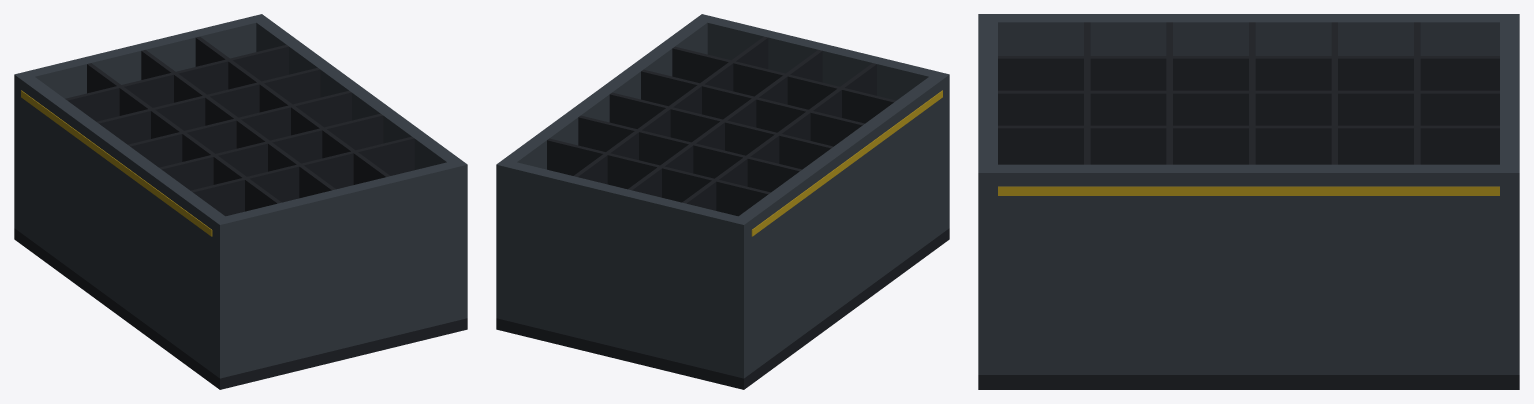
The model's file is bk24_frame.obj.
3 views of the same model, side by side, from view 1: azimuth 30°, elevation 25°; view 2: azimuth 150°, elevation 25°; view 3: azimuth 270°, elevation 25° (orthographic). The views are drawn at different scales.
Parts seen in each view (by area): view 1: bk24_frame; view 2: bk24_frame; view 3: bk24_frame.
Part boxes in pixels (<box>): bk24_frame: <box>14,14,467,389</box>; bk24_frame: <box>496,14,949,389</box>; bk24_frame: <box>978,14,1519,389</box>.
Size of the model in its own units: 2.3 by 1.45 by 3.28.
